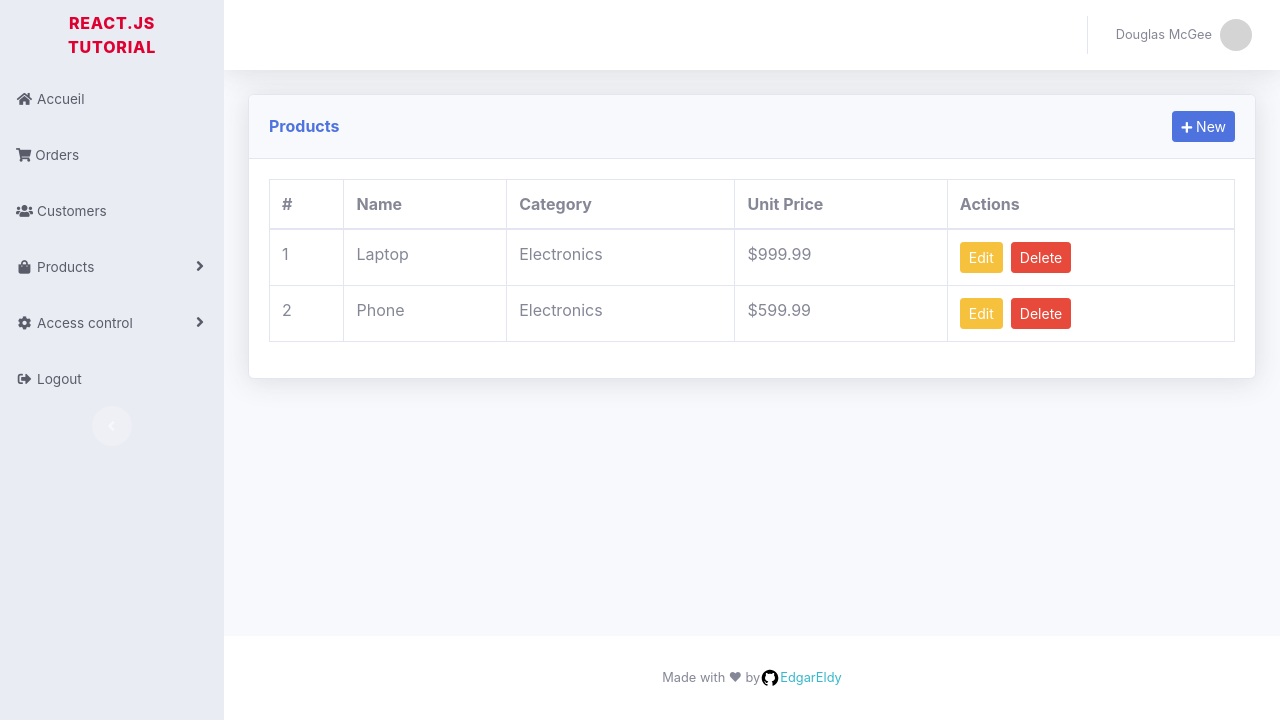
Scenario: Products CRUD › creates a new product
Click the button "New".
click(1204, 127)  # box x1=1172 y1=111 x2=1235 y2=142
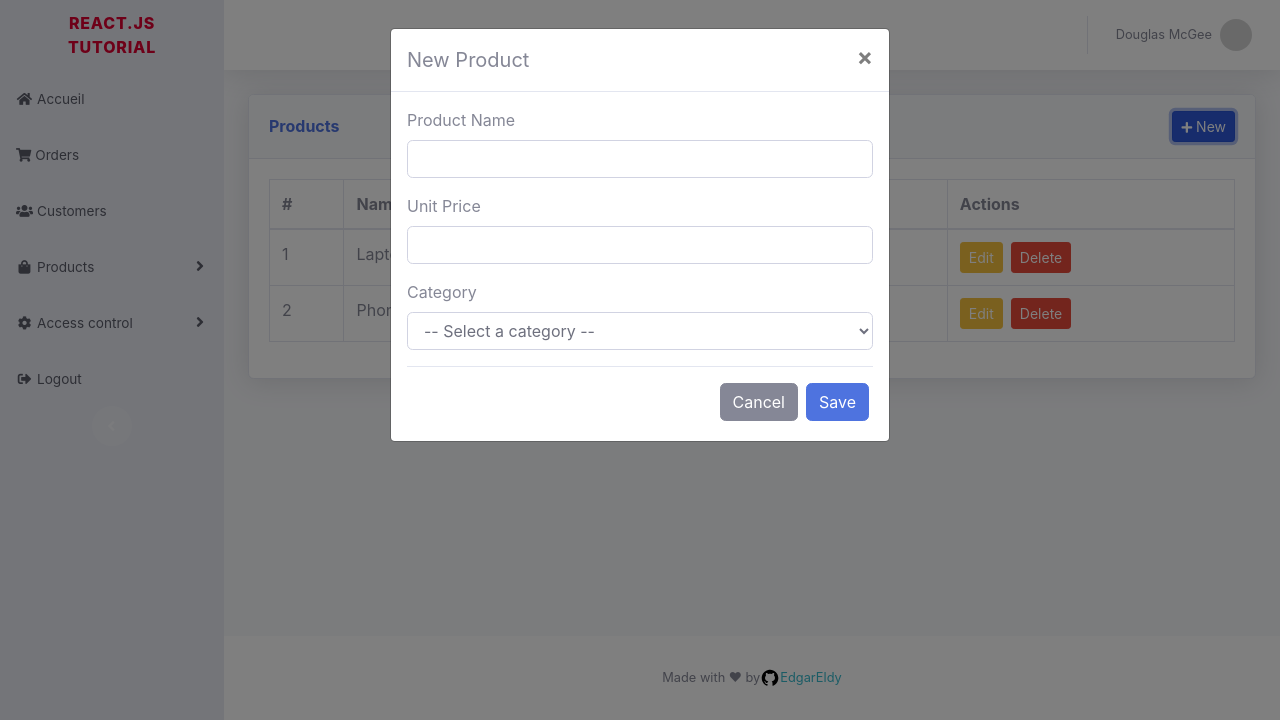
Type "Tablet" into the field labelled "Product Name".
click(640, 159); type("Tablet")  # box x1=407 y1=140 x2=873 y2=178
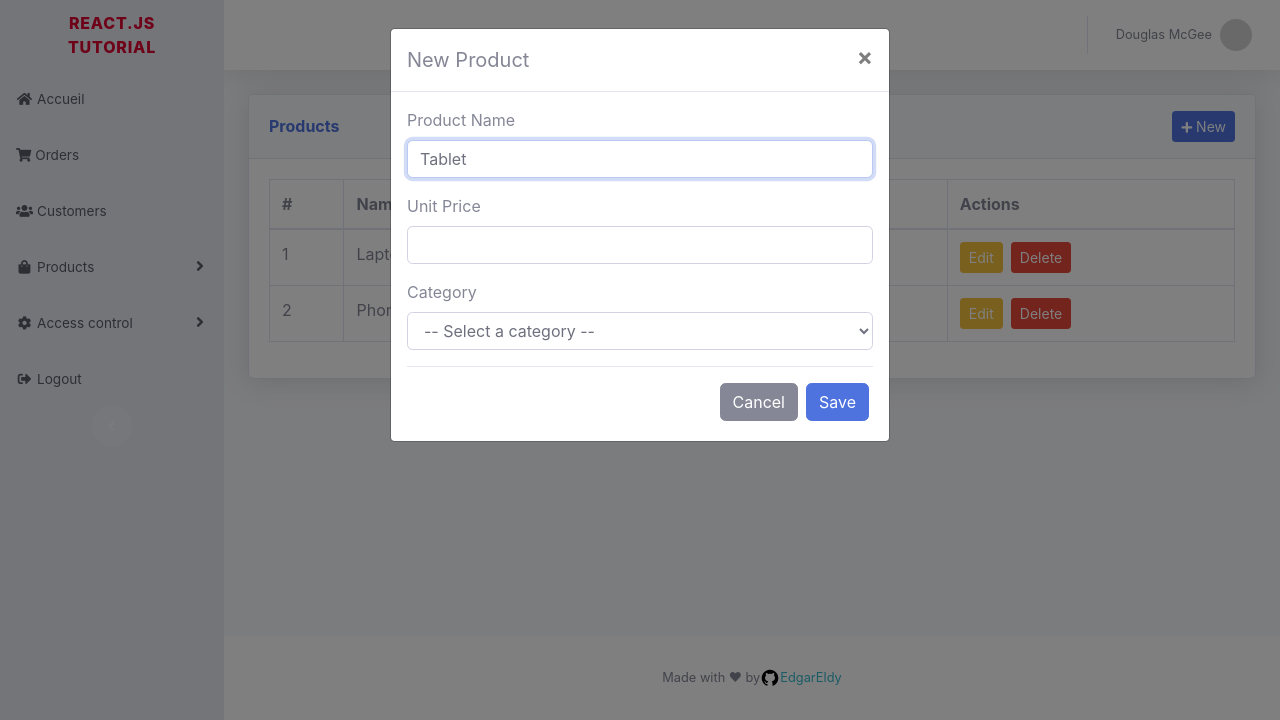
Type "499.99" into the number field with id "unitPrice".
click(640, 245); type("499.99")  # box x1=407 y1=226 x2=873 y2=264
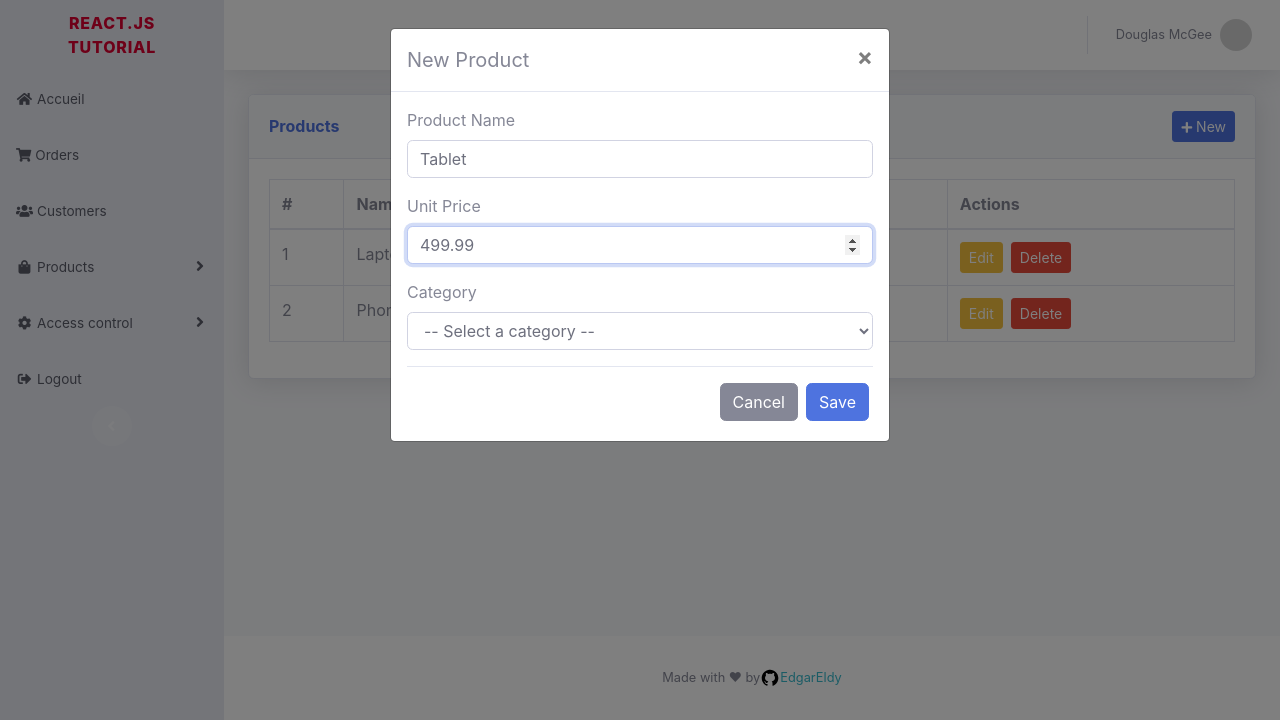
Select "Electronics" in the dropdown with id "categoryId" at [640, 331], box x1=407 y1=312 x2=873 y2=350
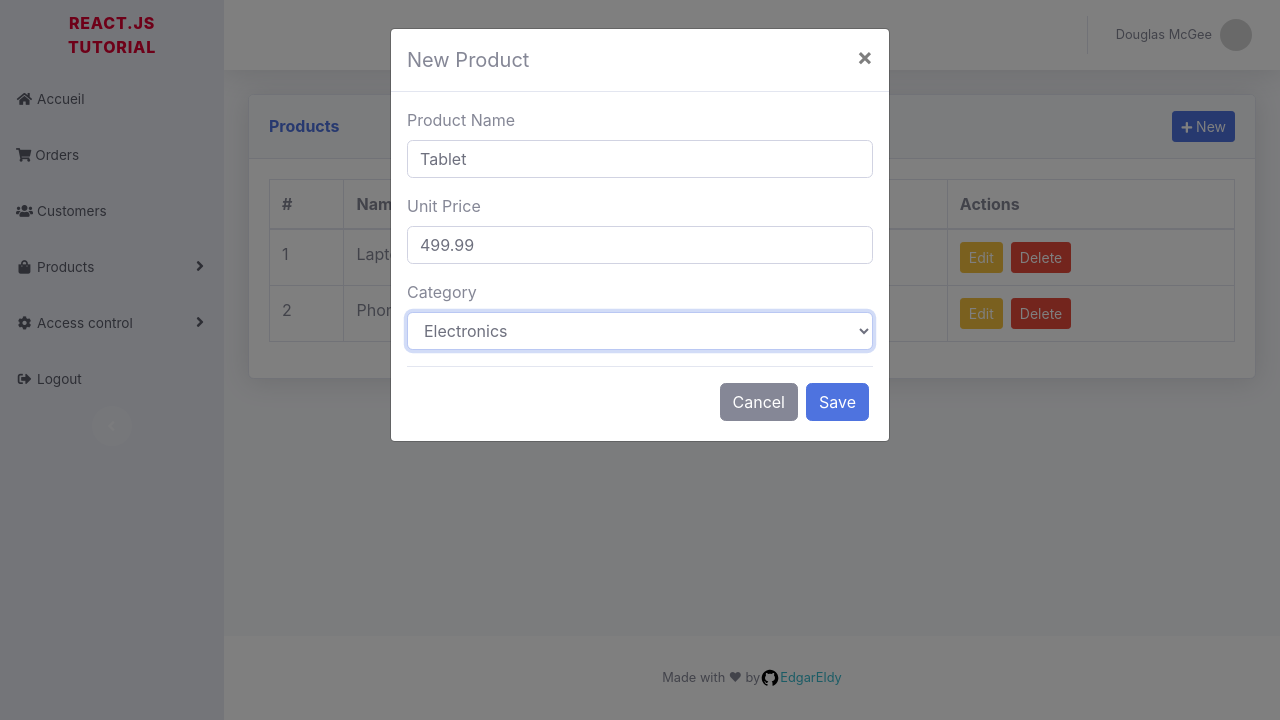
Click the button "Save".
click(838, 402)  # box x1=806 y1=383 x2=869 y2=421
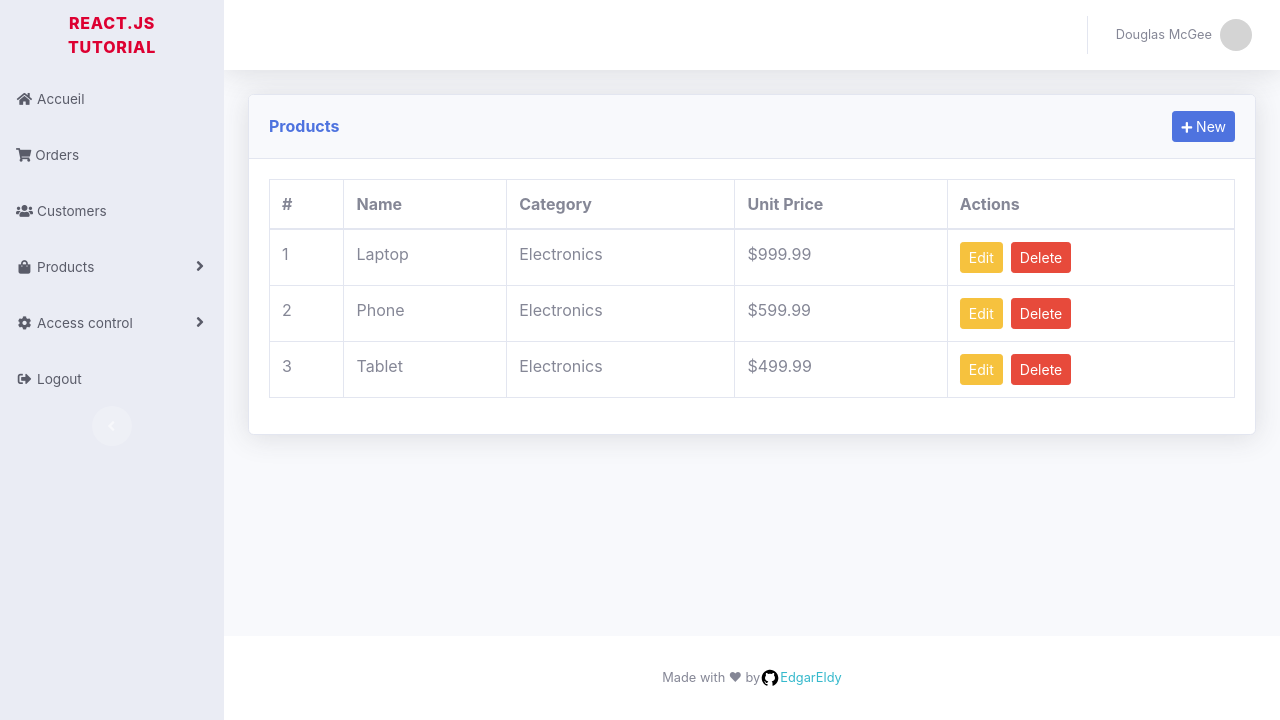
Check: the text "Tablet" is shown, box x1=344 y1=342 x2=507 y2=398
